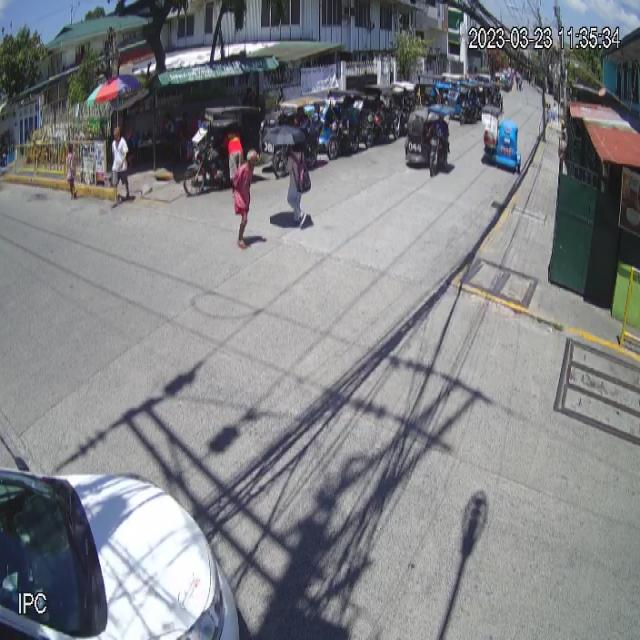Tricycle: (404, 101, 454, 178), (481, 105, 522, 174)
